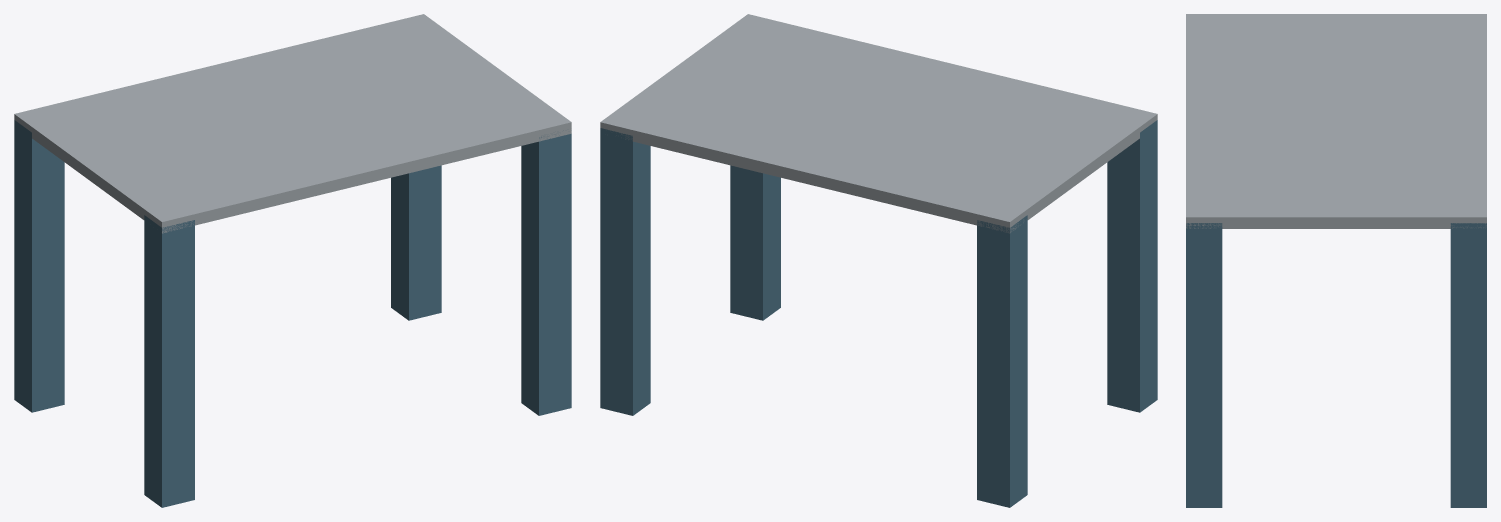
The picture shows the model from 3 angles, left to right: view 1: azimuth 30°, elevation 25°; view 2: azimuth 150°, elevation 25°; view 3: azimuth 270°, elevation 25°; orthographic projection.
Visible parts, largest first — view 1: shelf0, leg1, leg3, leg0, leg2; view 2: shelf0, leg0, leg2, leg1, leg3; view 3: shelf0, leg3, leg2.
Part boxes in pixels (left/top/right/bottom): shelf0: left=14, top=14, right=571, bottom=233; leg1: left=144, top=215, right=194, bottom=507; leg3: left=521, top=130, right=571, bottom=415; leg0: left=14, top=120, right=64, bottom=412; leg2: left=391, top=165, right=441, bottom=320; shelf0: left=600, top=14, right=1157, bottom=233; leg0: left=977, top=215, right=1027, bottom=507; leg2: left=600, top=128, right=650, bottom=415; leg1: left=1107, top=120, right=1157, bottom=412; leg3: left=730, top=165, right=780, bottom=320; shelf0: left=1186, top=14, right=1486, bottom=228; leg3: left=1186, top=223, right=1222, bottom=507; leg2: left=1450, top=223, right=1486, bottom=507.
Bounding box in the file's own units: 1.2 × 0.8 × 0.75.
